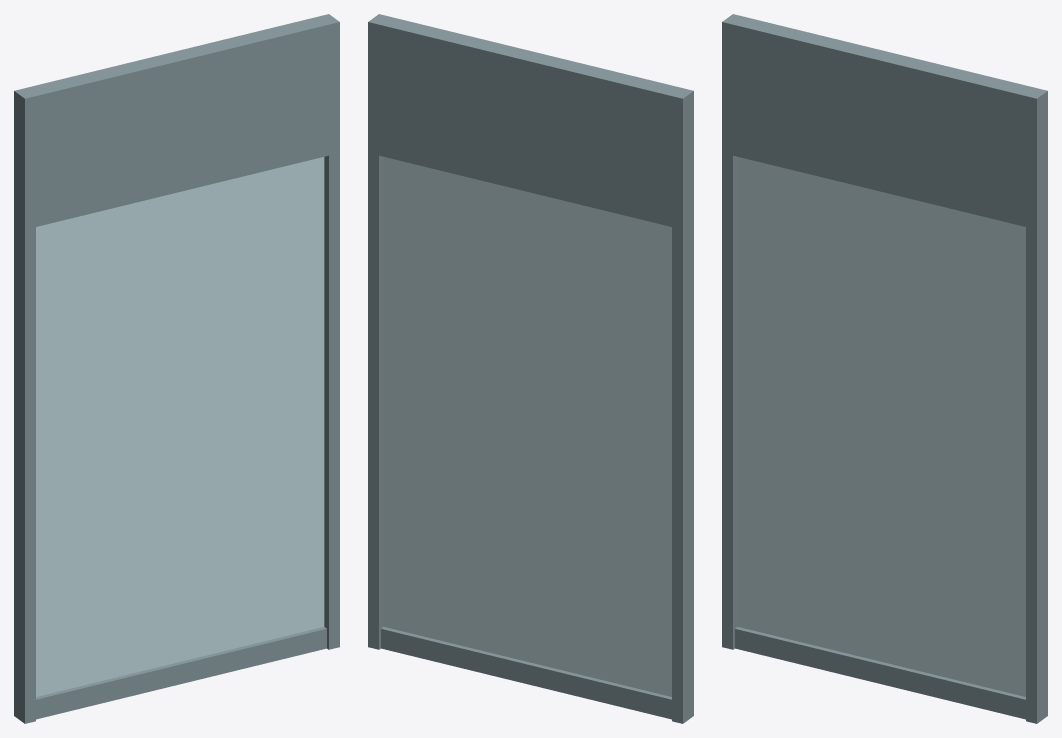
The model's file is shopfront_glass.glb.
3 views of the same model, side by side, from view 1: azimuth 30°, elevation 25°; view 2: azimuth 150°, elevation 25°; view 3: azimuth 330°, elevation 25° (orthographic).
Parts seen in each view (by area): view 1: shopfront_glass_glass, shopfront_glass_fascia, shopfront_glass_frame2; view 2: shopfront_glass_glass, shopfront_glass_fascia, shopfront_glass_frame2; view 3: shopfront_glass_glass, shopfront_glass_fascia, shopfront_glass_frame2.
Part boxes in pixels (x1,y1,x2,y2): shopfront_glass_glass: [36, 157, 324, 696]; shopfront_glass_fascia: [14, 14, 339, 229]; shopfront_glass_frame2: [14, 153, 339, 723]; shopfront_glass_glass: [383, 157, 671, 696]; shopfront_glass_fascia: [368, 14, 693, 229]; shopfront_glass_frame2: [368, 153, 693, 723]; shopfront_glass_glass: [737, 157, 1025, 696]; shopfront_glass_fascia: [722, 14, 1047, 229]; shopfront_glass_frame2: [722, 153, 1047, 723].
Size of the model in its own units: 2 by 3.8 by 0.12.
